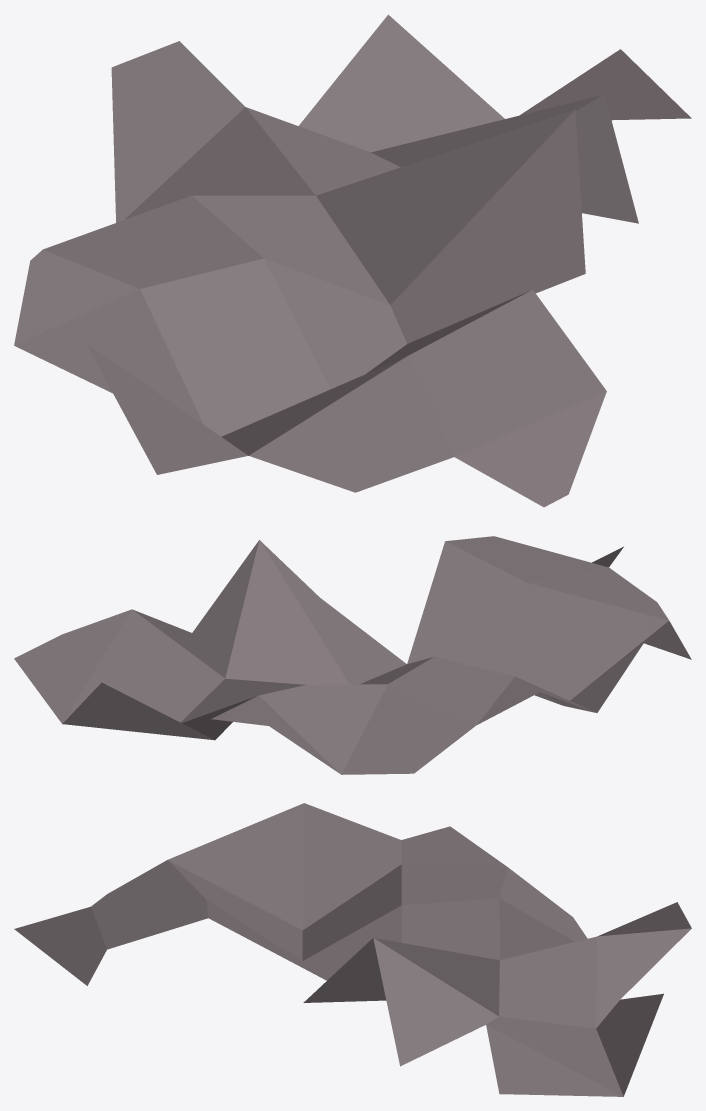
The model's file is Scrap4.fbx.
3 renders of one model, top to bottom at view 1: azimuth 30°, elevation 25°; view 2: azimuth 150°, elevation 25°; view 3: azimuth 270°, elevation 25°, orthographic. The views are drawn at different scales.
Visible parts, largest first — view 1: Bake.010; view 2: Bake.010; view 3: Bake.010.
Boxes of the visible parts, x1,y1,x2,y2 form: Bake.010: (14, 14, 691, 507); Bake.010: (14, 536, 691, 774); Bake.010: (14, 803, 691, 1096).
Bounding box in the file's own units: 487 × 119 × 560.
Materials: 2 (1 with a texture image).
